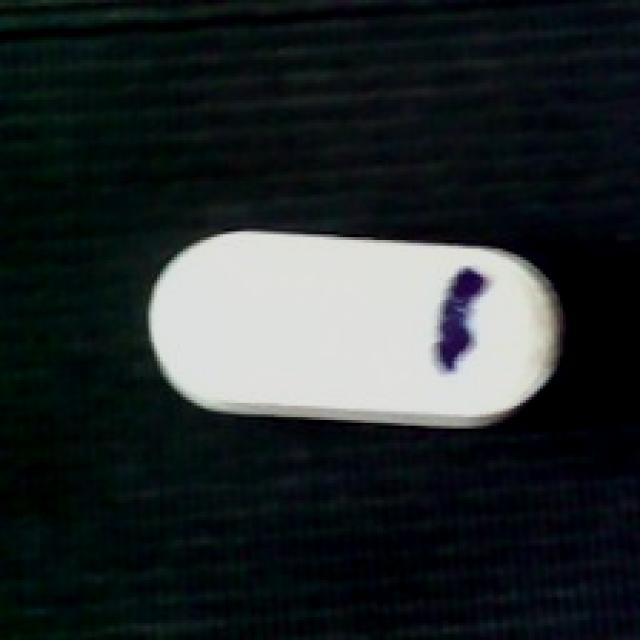defected: (140, 223, 580, 428)
